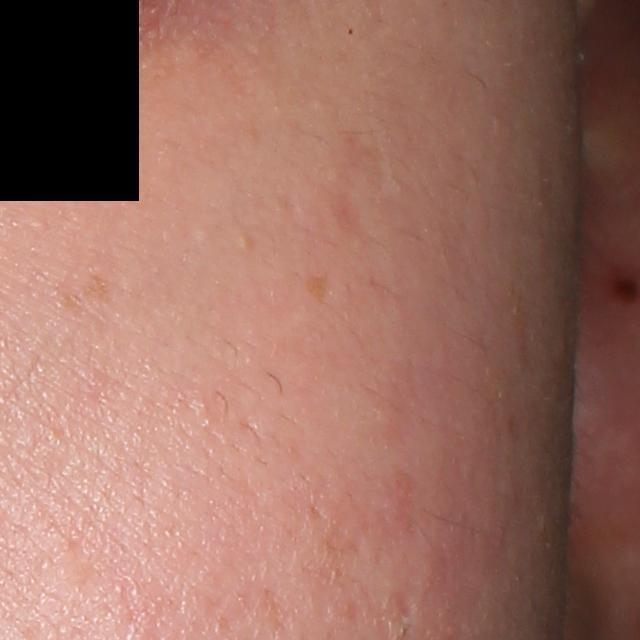melasma: (51, 275, 109, 313), (302, 273, 328, 305)
other: (236, 231, 255, 253)
